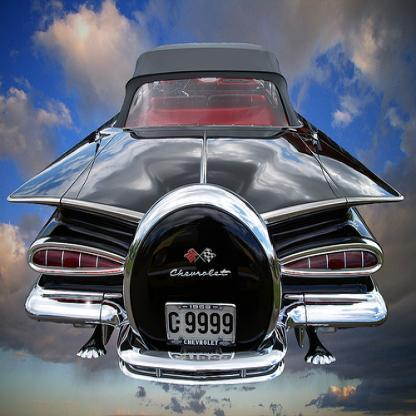car: (12, 39, 407, 391)
